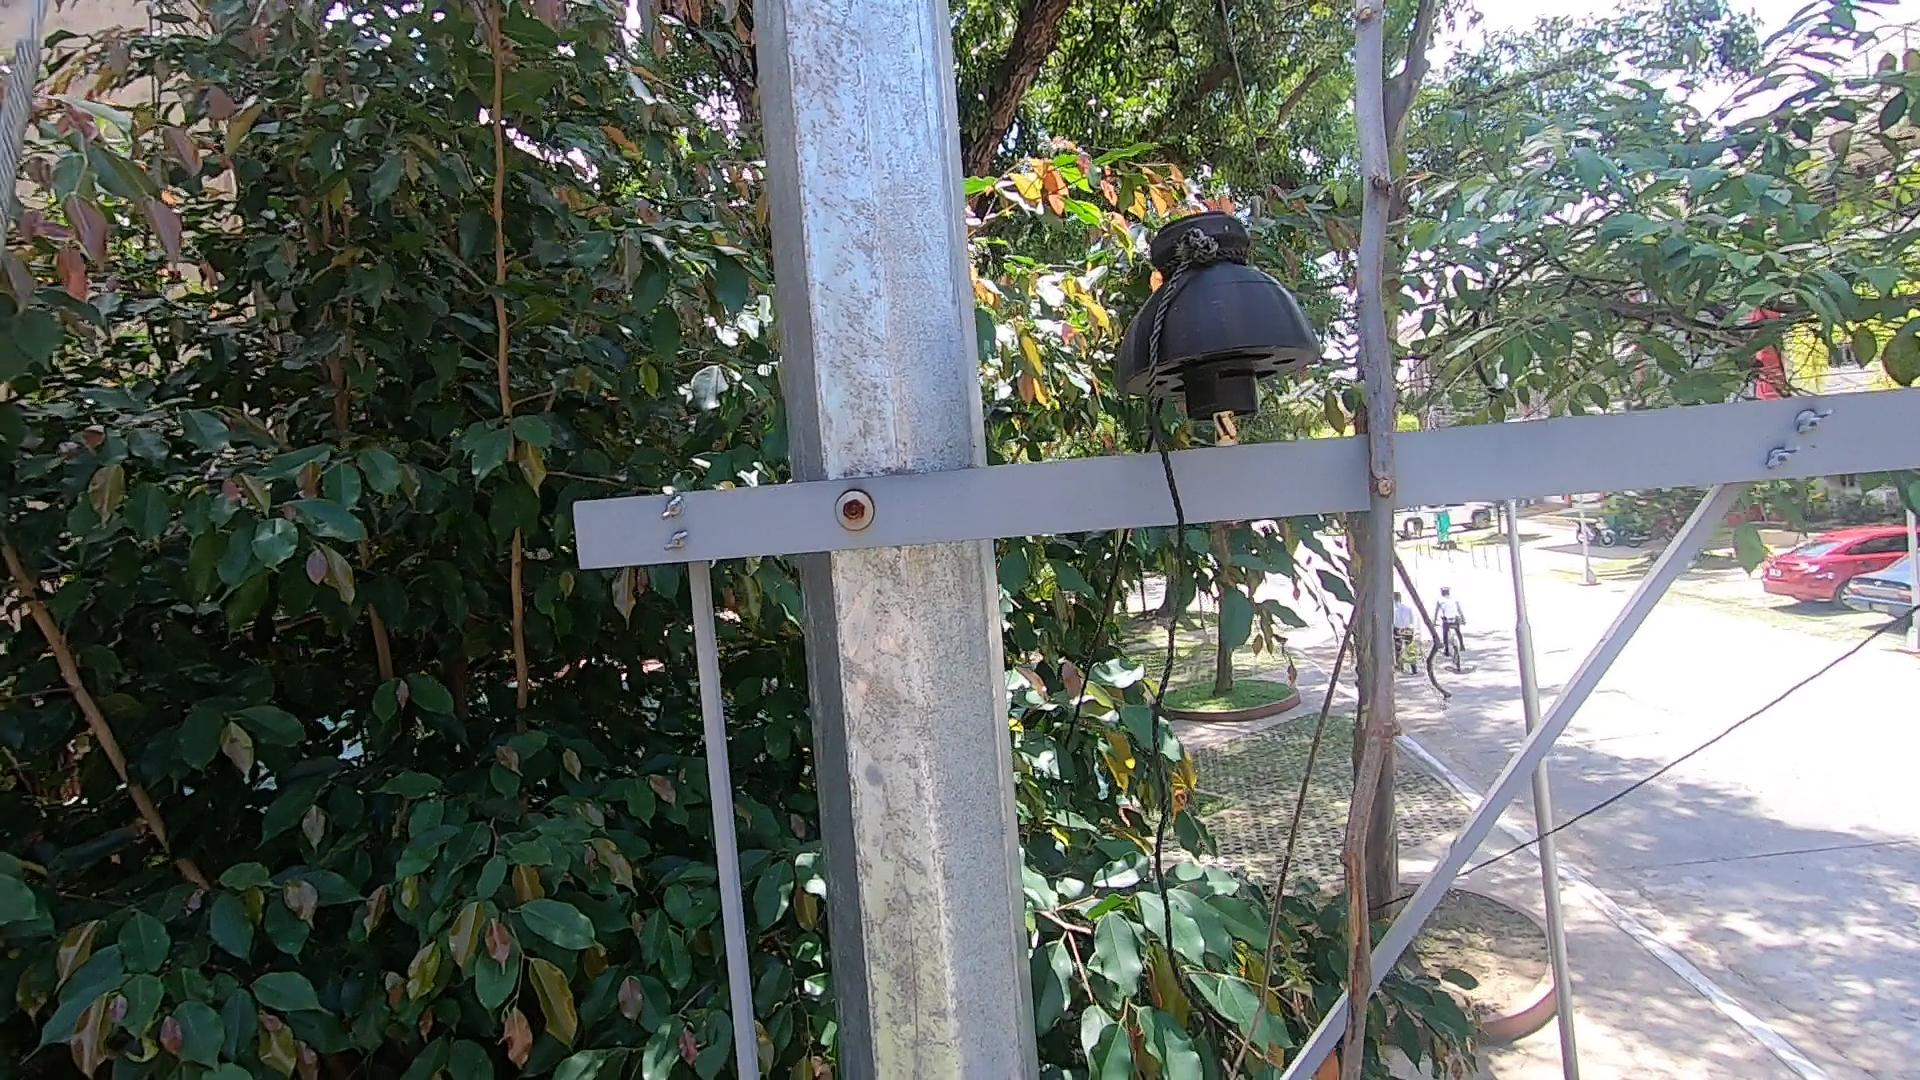tree branch: (1269, 1, 1484, 1080)
